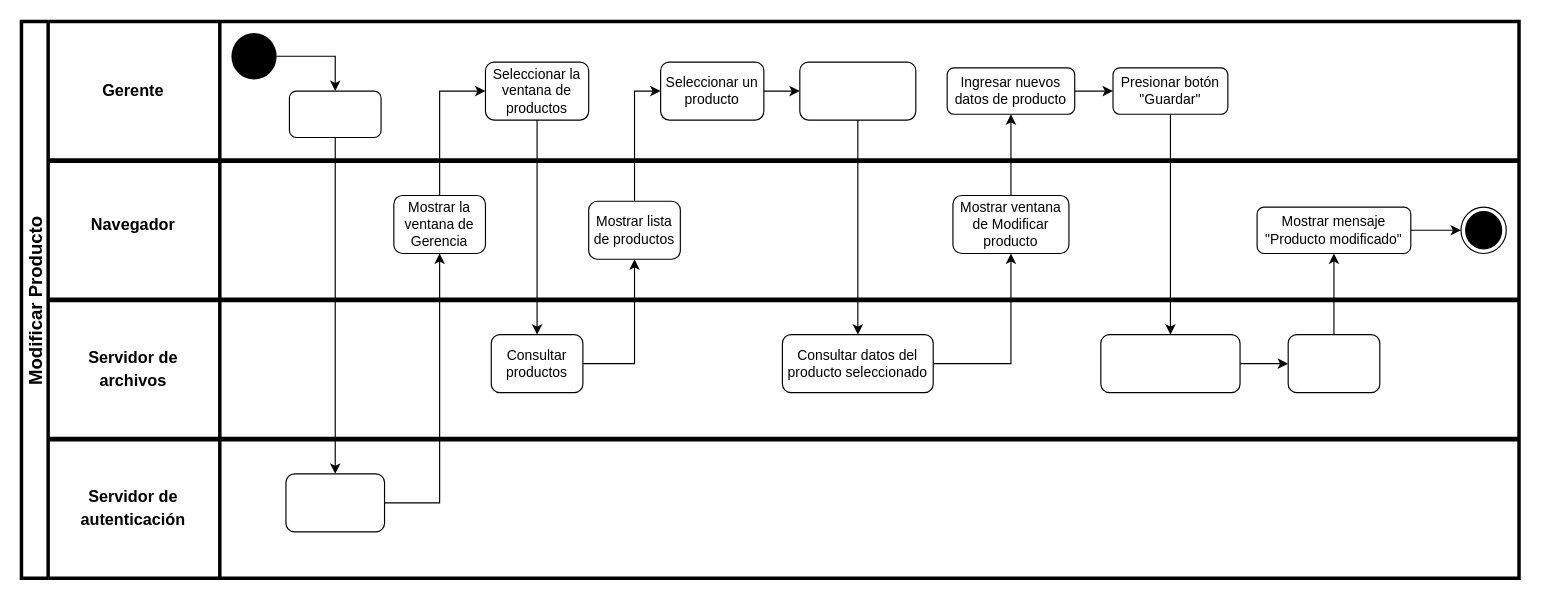
Image size: 1543x601. Some labels were removed from this diagram. Each missing label, with the centre of its shape:
Agregar productos al servidor: (1333,363)
Autenticar los permisos de usuario: (335,502)
Ingresar su usuario: (334,113)
Presionar botón "Modificar": (857,90)
Validar nuevos datos de producto: (1170,363)
